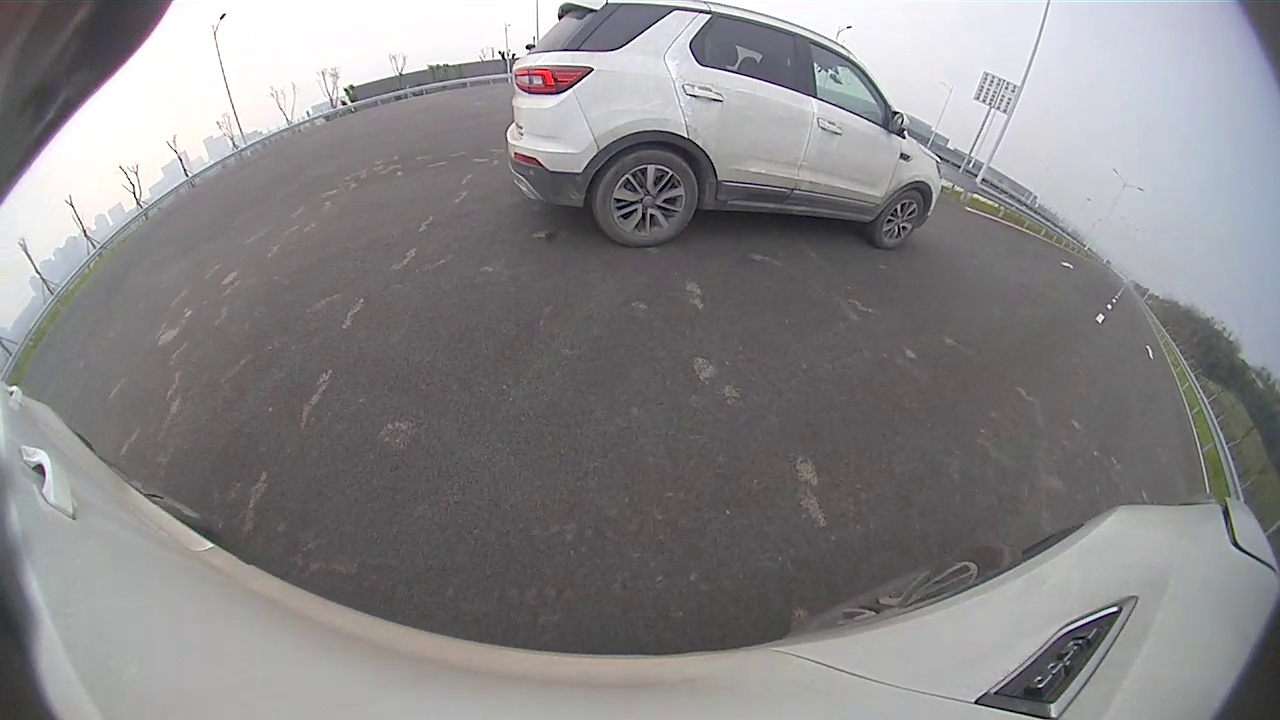car: (509, 1, 939, 248)
front: (874, 190, 926, 249)
rear: (597, 149, 700, 246)
